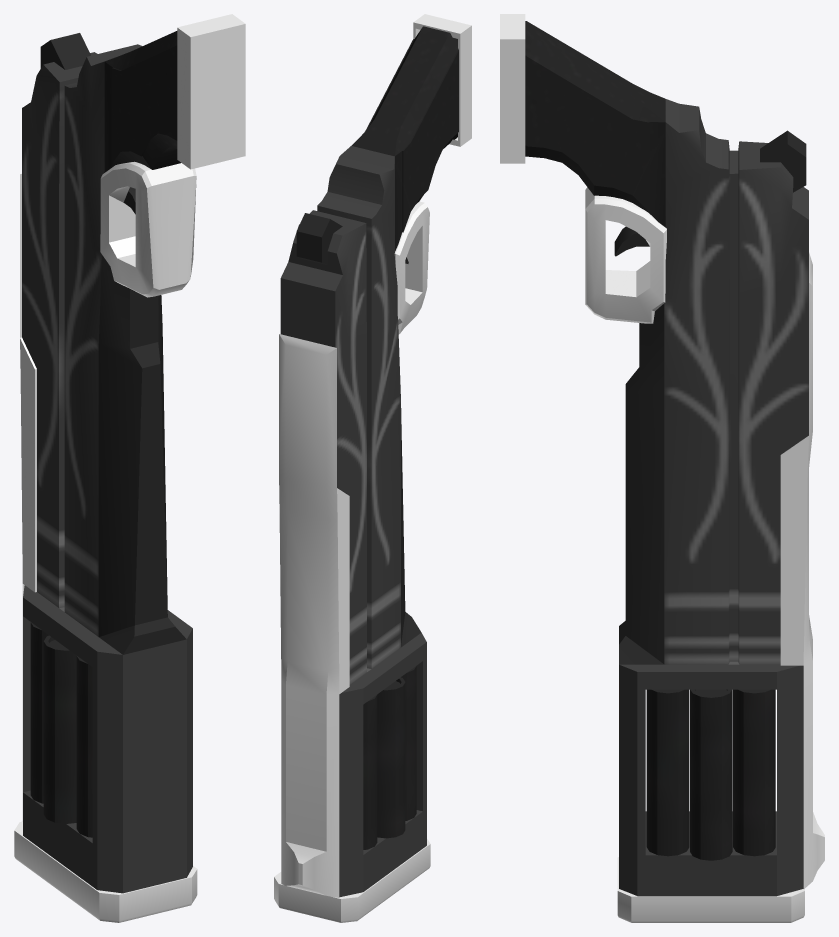
The model's file is Pistol.fbx.
3 renders of one model, left to right at view 1: azimuth 30°, elevation 25°; view 2: azimuth 150°, elevation 25°; view 3: azimuth 270°, elevation 25°, orthographic. The views are drawn at different scales.
Parts seen in each view (by area): view 1: Pistol; view 2: Pistol; view 3: Pistol.
Boxes of the visible parts, bbox=[...] form: Pistol: bbox=[14, 14, 245, 922]; Pistol: bbox=[274, 14, 471, 922]; Pistol: bbox=[500, 14, 824, 922].
Bounding box in the file's own units: 9.89 × 72.23 × 24.29.
